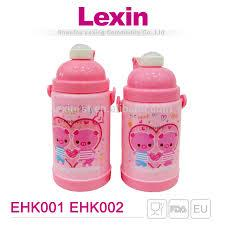Plastic shaker: (31, 44, 115, 195), (116, 41, 192, 206)
